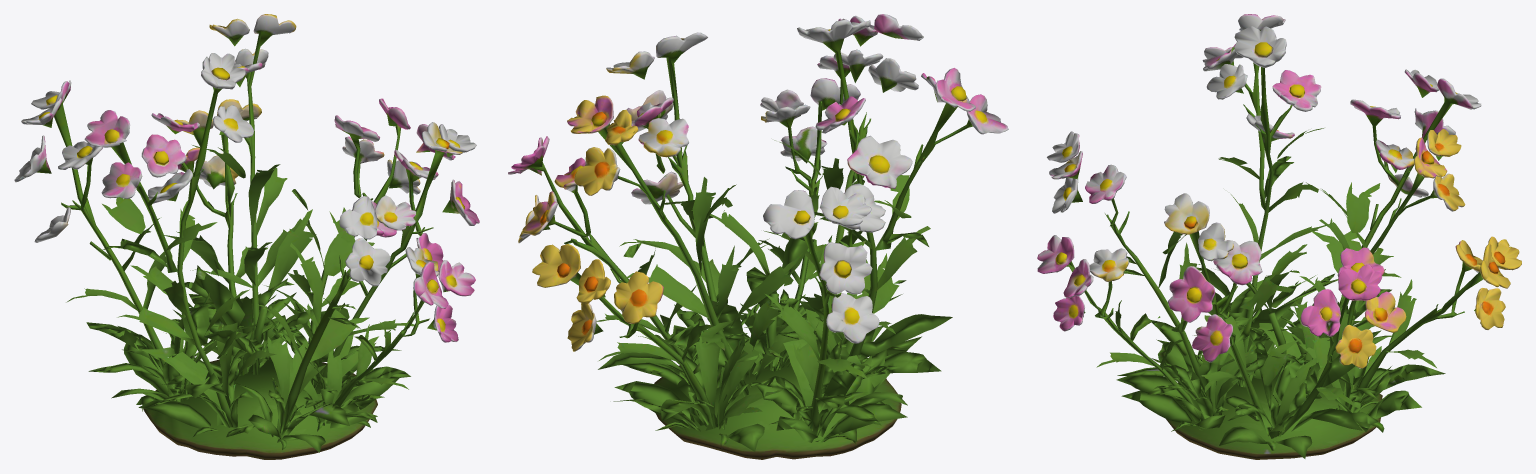
Rendered from 13663123-70fe-4d53-a463-1efe364261a8_model.glb.
The picture shows the model from 3 angles, left to right: view 1: azimuth 30°, elevation 25°; view 2: azimuth 150°, elevation 25°; view 3: azimuth 270°, elevation 25°; orthographic projection. The views are drawn at different scales.
Visible parts, largest first — view 1: tripo_node_13663123-70fe-4d53-a463-1efe364261a8; view 2: tripo_node_13663123-70fe-4d53-a463-1efe364261a8; view 3: tripo_node_13663123-70fe-4d53-a463-1efe364261a8.
Part boxes in pixels (x1,y1,x2,y2): tripo_node_13663123-70fe-4d53-a463-1efe364261a8: (14,14,479,459); tripo_node_13663123-70fe-4d53-a463-1efe364261a8: (508,14,1008,459); tripo_node_13663123-70fe-4d53-a463-1efe364261a8: (1037,14,1521,459).
Size of the model in its own units: 0.3382 by 0.3 by 0.3642.
Materials: 1 (1 with a texture image).
